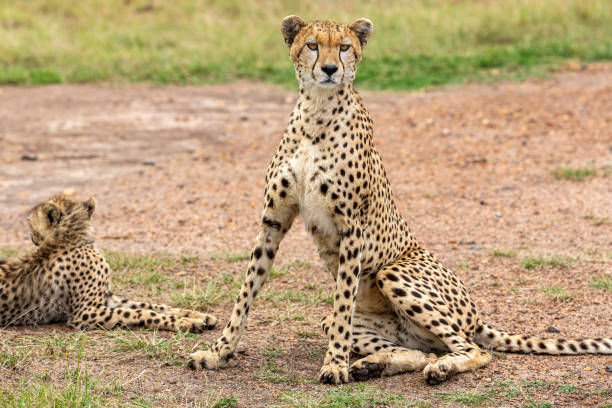cheetah: (273, 5, 383, 103)
